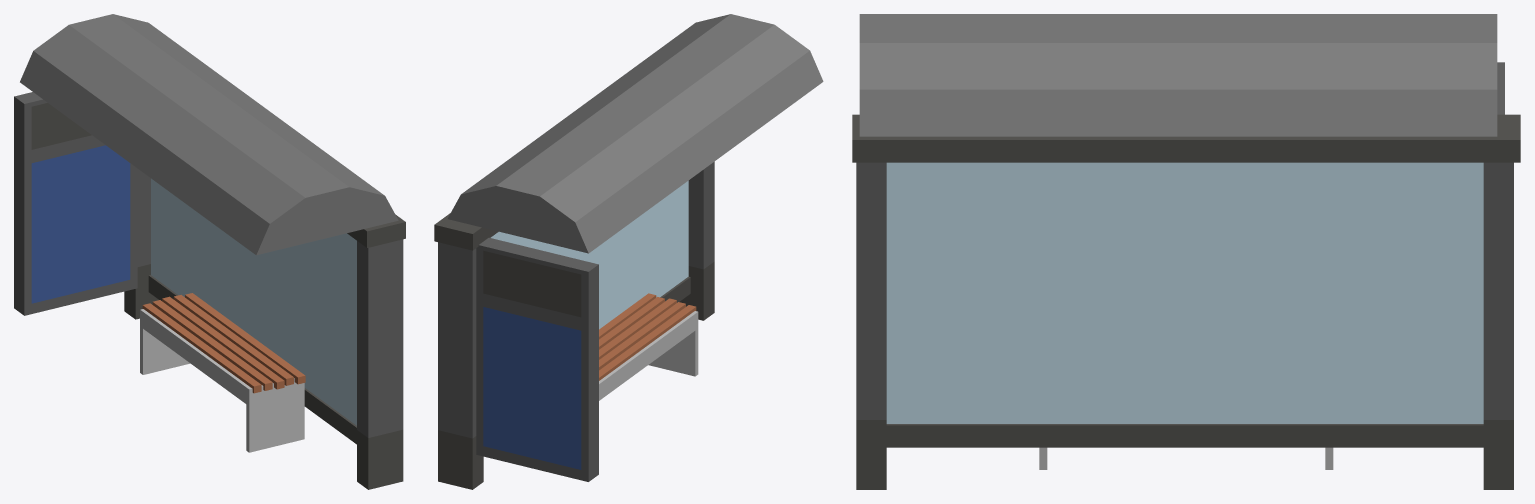
Rendered from Bus_Stop.fbx.
The picture shows the model from 3 angles, left to right: view 1: azimuth 30°, elevation 25°; view 2: azimuth 150°, elevation 25°; view 3: azimuth 270°, elevation 25°; orthographic projection. The views are drawn at different scales.
Visible parts, largest first — view 1: Bus_Stop; view 2: Bus_Stop; view 3: Bus_Stop.
Part boxes in pixels (x1=…): Bus_Stop: x1=14, y1=14, x2=405, y2=489; Bus_Stop: x1=434, y1=14, x2=823, y2=489; Bus_Stop: x1=852, y1=14, x2=1520, y2=489.
Bounding box in the file's own units: 1.89 × 3.69 × 5.41.
Materials: 1 (1 with a texture image).
